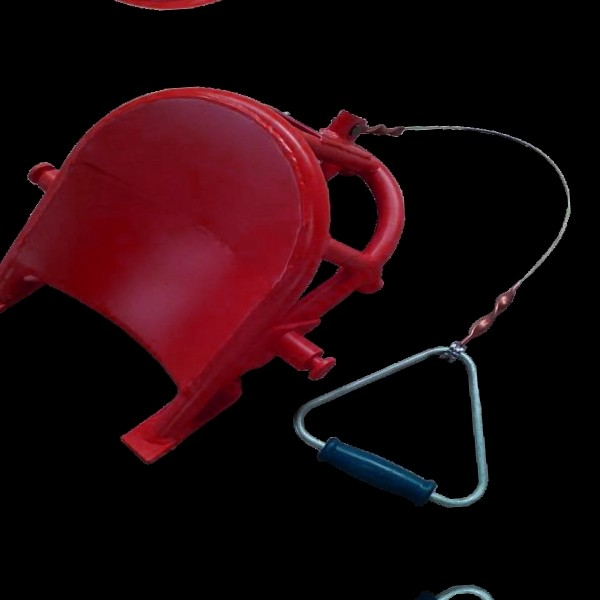chock: (0, 72, 426, 480)
